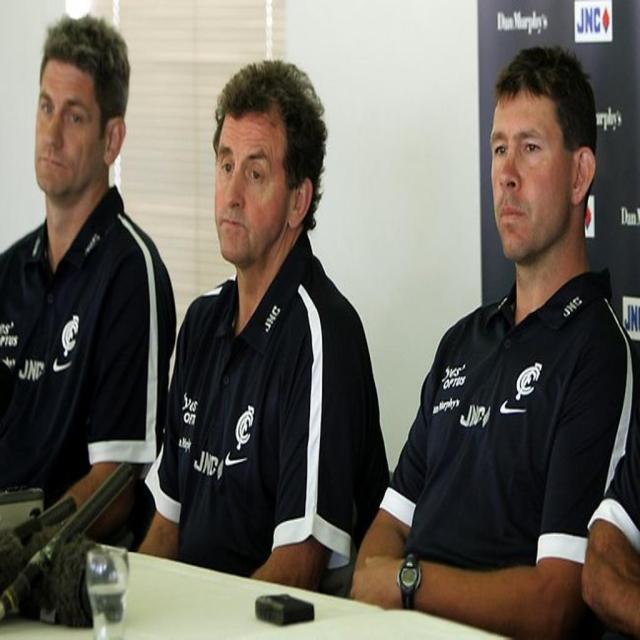Face: (489, 88, 580, 282), (204, 94, 297, 277), (29, 38, 119, 216)
